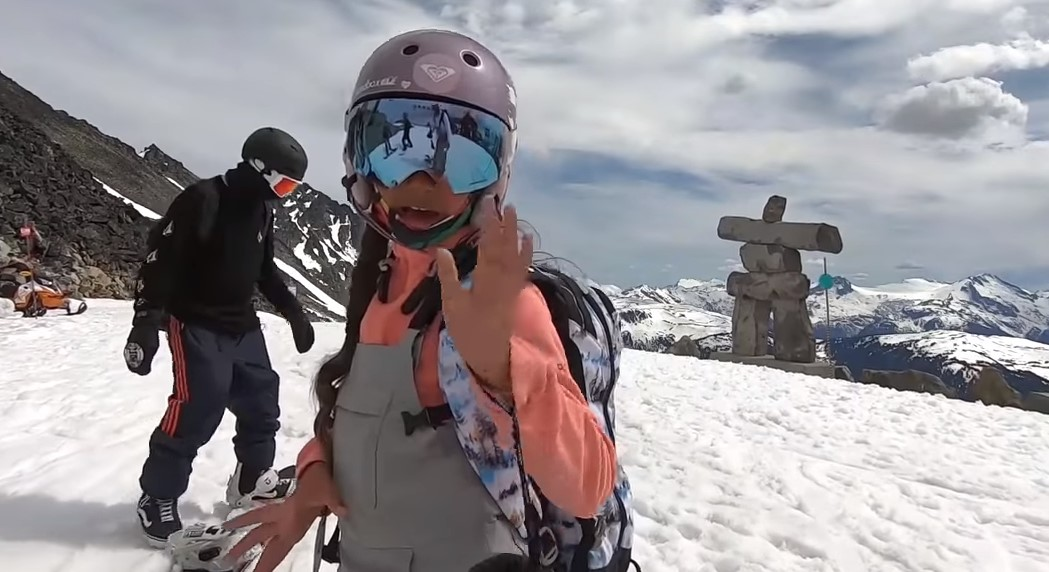face_with_mask: (241, 129, 306, 202)
